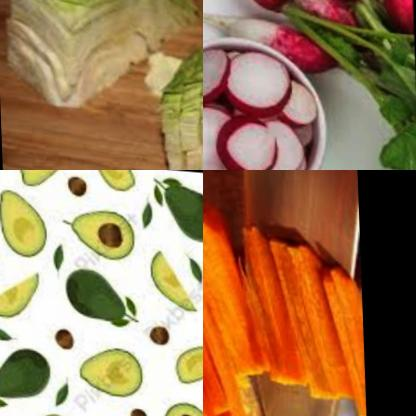avocado: (62, 258, 127, 332), (135, 250, 203, 317), (146, 172, 203, 249), (67, 336, 140, 396), (0, 336, 50, 416), (64, 201, 136, 256), (0, 265, 55, 333), (0, 184, 47, 253), (159, 328, 203, 390), (92, 170, 143, 197), (13, 170, 67, 185)
cabbage: (0, 0, 203, 118), (145, 3, 203, 170)
carrot: (236, 222, 365, 414), (203, 191, 263, 416)
rediska: (203, 38, 320, 170), (210, 3, 342, 71), (256, 0, 363, 29), (357, 0, 412, 23)
